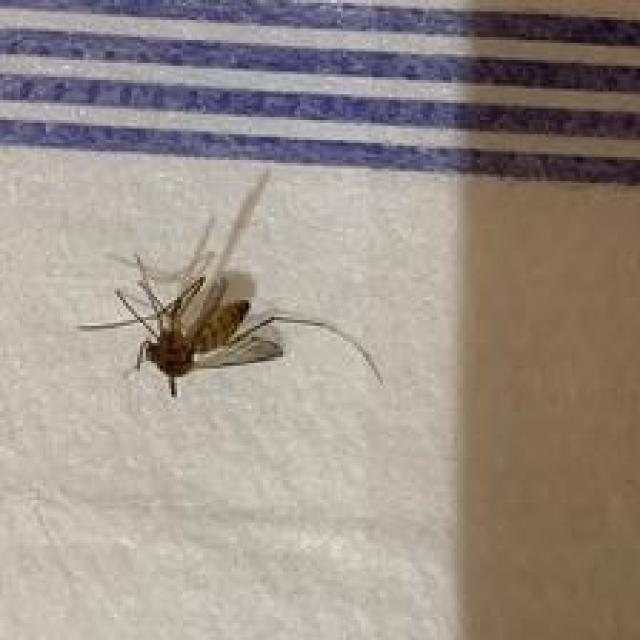Culex: (74, 167, 383, 399)
